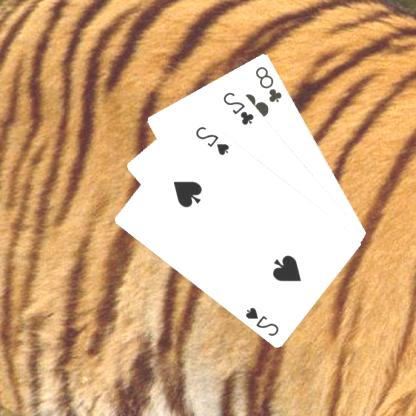2C: (222, 89, 257, 126)
2S: (194, 122, 232, 156), (244, 304, 282, 338)
8C: (254, 63, 286, 104)
